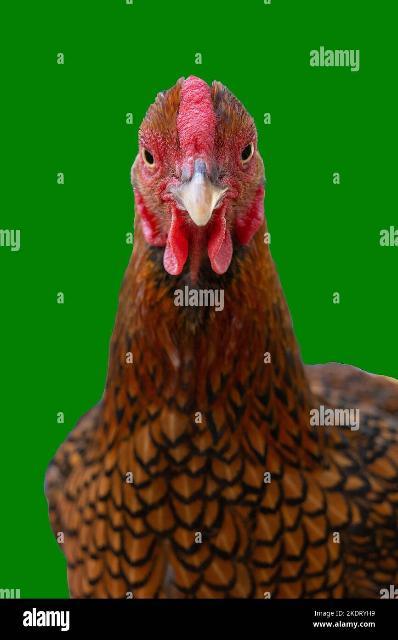Chicken: (45, 78, 398, 598)
